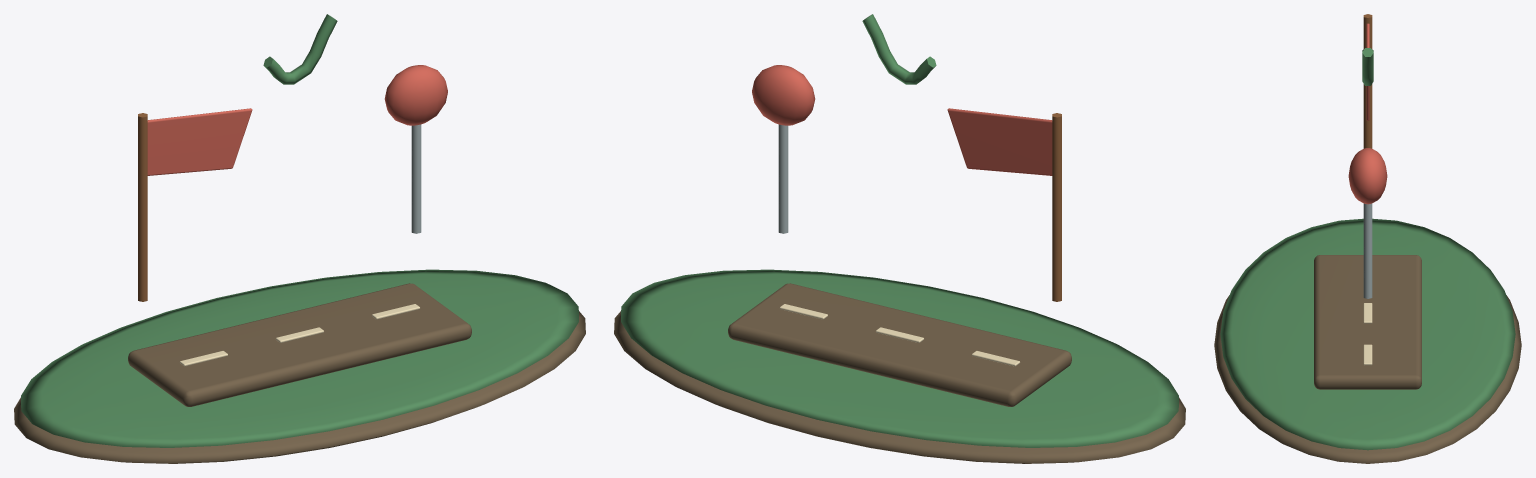
The model's file is complete-first-finally-at-goal.glb.
3 views of the same model, side by side, from view 1: azimuth 30°, elevation 25°; view 2: azimuth 150°, elevation 25°; view 3: azimuth 270°, elevation 25° (orthographic). The views are drawn at different scales.
Visible parts, largest first — view 1: complete-first-finally-at-goal_surface_01, complete-first-finally-at-goal_surface_00, complete-first-finally-at-goal_surface_03, complete-first-finally-at-goal_surface_02, complete-first-finally-at-goal_surface_04, complete-first-finally-at-goal_surface_05; view 2: complete-first-finally-at-goal_surface_01, complete-first-finally-at-goal_surface_00, complete-first-finally-at-goal_surface_03, complete-first-finally-at-goal_surface_02, complete-first-finally-at-goal_surface_04, complete-first-finally-at-goal_surface_05; view 3: complete-first-finally-at-goal_surface_01, complete-first-finally-at-goal_surface_00, complete-first-finally-at-goal_surface_03, complete-first-finally-at-goal_surface_04, complete-first-finally-at-goal_surface_02, complete-first-finally-at-goal_surface_05.
Part boxes in pixels (box(x1,y1,x2,y2)): complete-first-finally-at-goal_surface_01: box(21, 14, 578, 447); complete-first-finally-at-goal_surface_00: box(14, 283, 585, 463); complete-first-finally-at-goal_surface_03: box(147, 65, 447, 175); complete-first-finally-at-goal_surface_02: box(138, 113, 147, 301); complete-first-finally-at-goal_surface_04: box(411, 124, 421, 233); complete-first-finally-at-goal_surface_05: box(179, 304, 419, 366); complete-first-finally-at-goal_surface_01: box(621, 14, 1178, 447); complete-first-finally-at-goal_surface_00: box(614, 283, 1185, 463); complete-first-finally-at-goal_surface_03: box(752, 65, 1052, 175); complete-first-finally-at-goal_surface_02: box(1052, 113, 1061, 301); complete-first-finally-at-goal_surface_04: box(778, 124, 788, 233); complete-first-finally-at-goal_surface_05: box(780, 304, 1020, 366); complete-first-finally-at-goal_surface_01: box(1220, 48, 1515, 450); complete-first-finally-at-goal_surface_00: box(1214, 255, 1521, 463); complete-first-finally-at-goal_surface_03: box(1348, 23, 1387, 204); complete-first-finally-at-goal_surface_04: box(1363, 203, 1372, 298); complete-first-finally-at-goal_surface_02: box(1363, 14, 1372, 148); complete-first-finally-at-goal_surface_05: box(1363, 303, 1372, 365).
Size of the model in its own units: 4.56 by 2.91 by 2.5.
